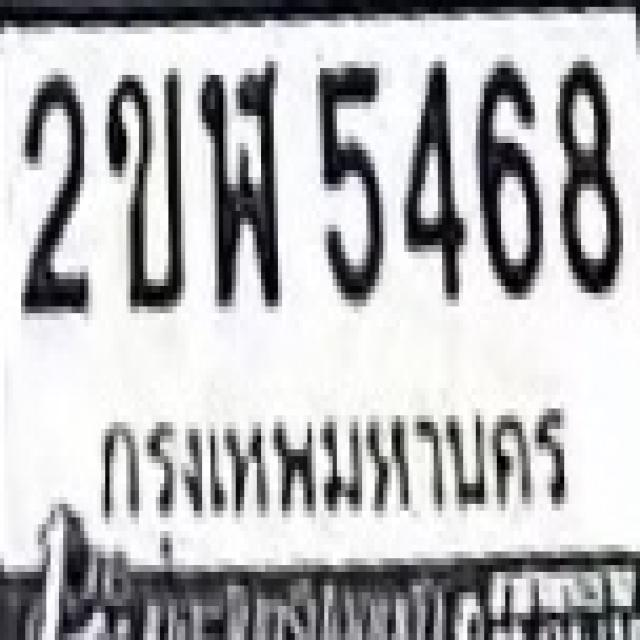2: (15, 64, 86, 310)
4: (400, 54, 463, 293)
5: (314, 54, 381, 300)
6: (472, 54, 539, 293)
8: (552, 54, 619, 293)
A02: (101, 61, 181, 306)
A42: (198, 58, 278, 303)
BKK: (82, 397, 582, 559)
